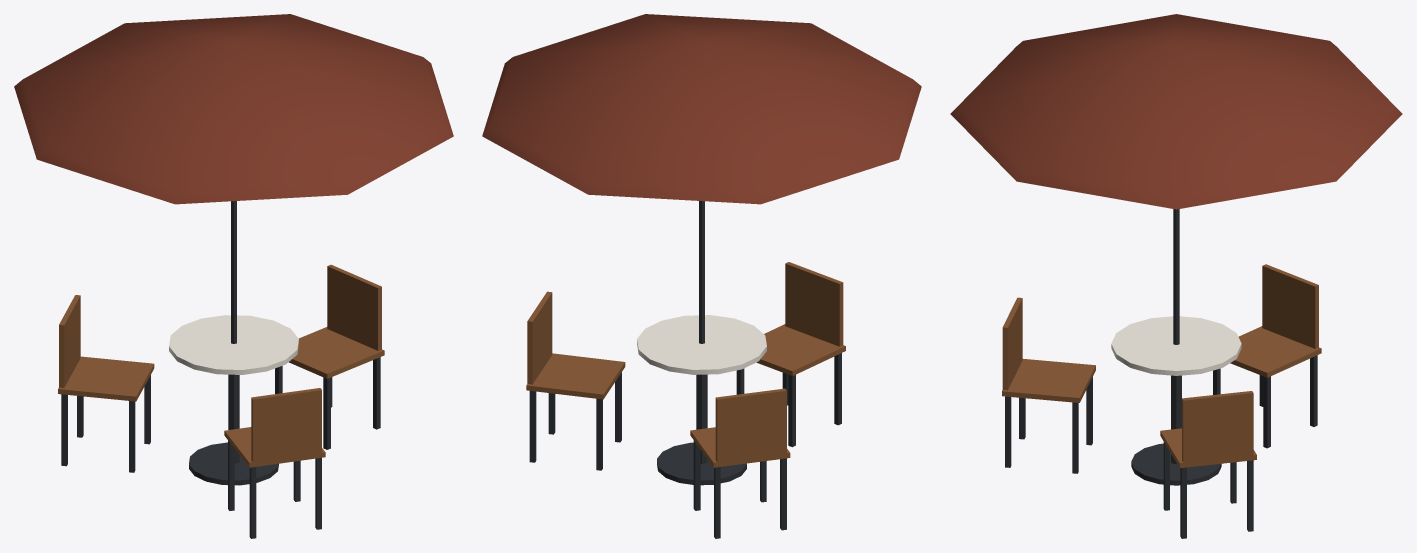
The picture shows the model from 3 angles, left to right: view 1: azimuth 30°, elevation 25°; view 2: azimuth 150°, elevation 25°; view 3: azimuth 270°, elevation 25°; orthographic projection.
Parts seen in each view (by area): view 1: terrace.lod0; view 2: terrace.lod0; view 3: terrace.lod0.
Part boxes in pixels (left/top/right/bottom): terrace.lod0: left=14, top=14, right=453, bottom=538; terrace.lod0: left=482, top=14, right=921, bottom=538; terrace.lod0: left=950, top=14, right=1402, bottom=538.
Bounding box in the file's own units: 2.5 × 2.57 × 2.5.
